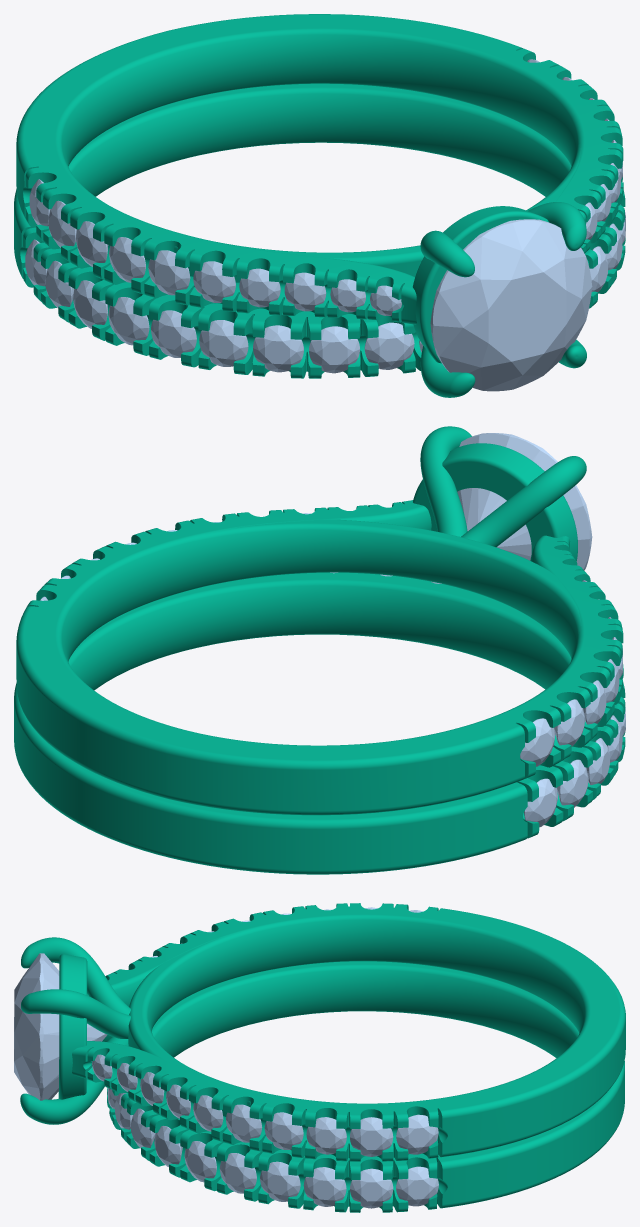
The picture shows the model from 3 angles, top to bottom: view 1: azimuth 30°, elevation 25°; view 2: azimuth 150°, elevation 25°; view 3: azimuth 270°, elevation 25°; orthographic projection. The views are drawn at different scales.
Visible parts, largest first — view 1: wedding set(base).3dm, Diamond_Round (×11), GemOnCrv (×10), Bezel; view 2: wedding set(base).3dm, Diamond_Round (×3), Bezel, GemOnCrv (×3); view 3: wedding set(base).3dm, Diamond_Round (×9), GemOnCrv (×8), Bezel.
Boxes of the visible parts, x1,y1,x2,y2 form: wedding set(base).3dm: [14, 14, 625, 397]; Diamond_Round (×11): [29, 179, 592, 391]; GemOnCrv (×10): [25, 239, 608, 373]; Bezel: [412, 206, 548, 363]; wedding set(base).3dm: [14, 426, 625, 874]; Diamond_Round (×3): [457, 433, 592, 766]; Bezel: [413, 443, 577, 560]; GemOnCrv (×3): [524, 738, 609, 827]; wedding set(base).3dm: [20, 903, 625, 1212]; Diamond_Round (×9): [14, 953, 438, 1156]; GemOnCrv (×8): [130, 1108, 438, 1208]; Bezel: [58, 954, 87, 1099].
Size of the model in its own units: 2.53 by 0.7879 by 2.99.
